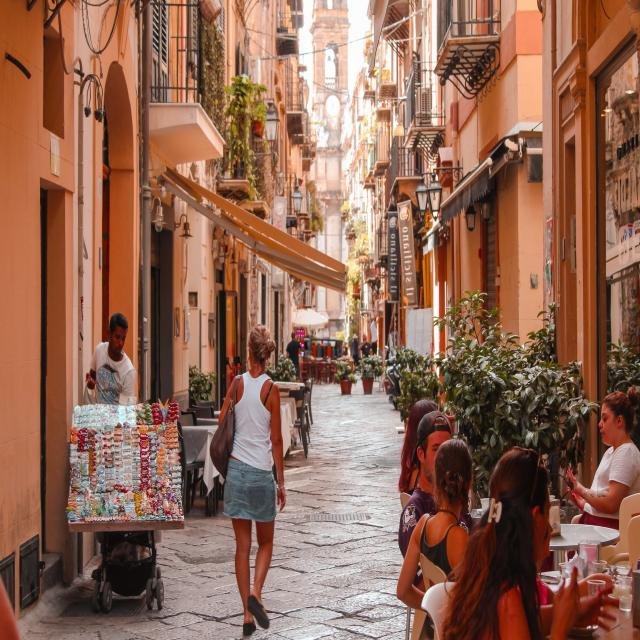adult: (211, 315, 288, 640)
